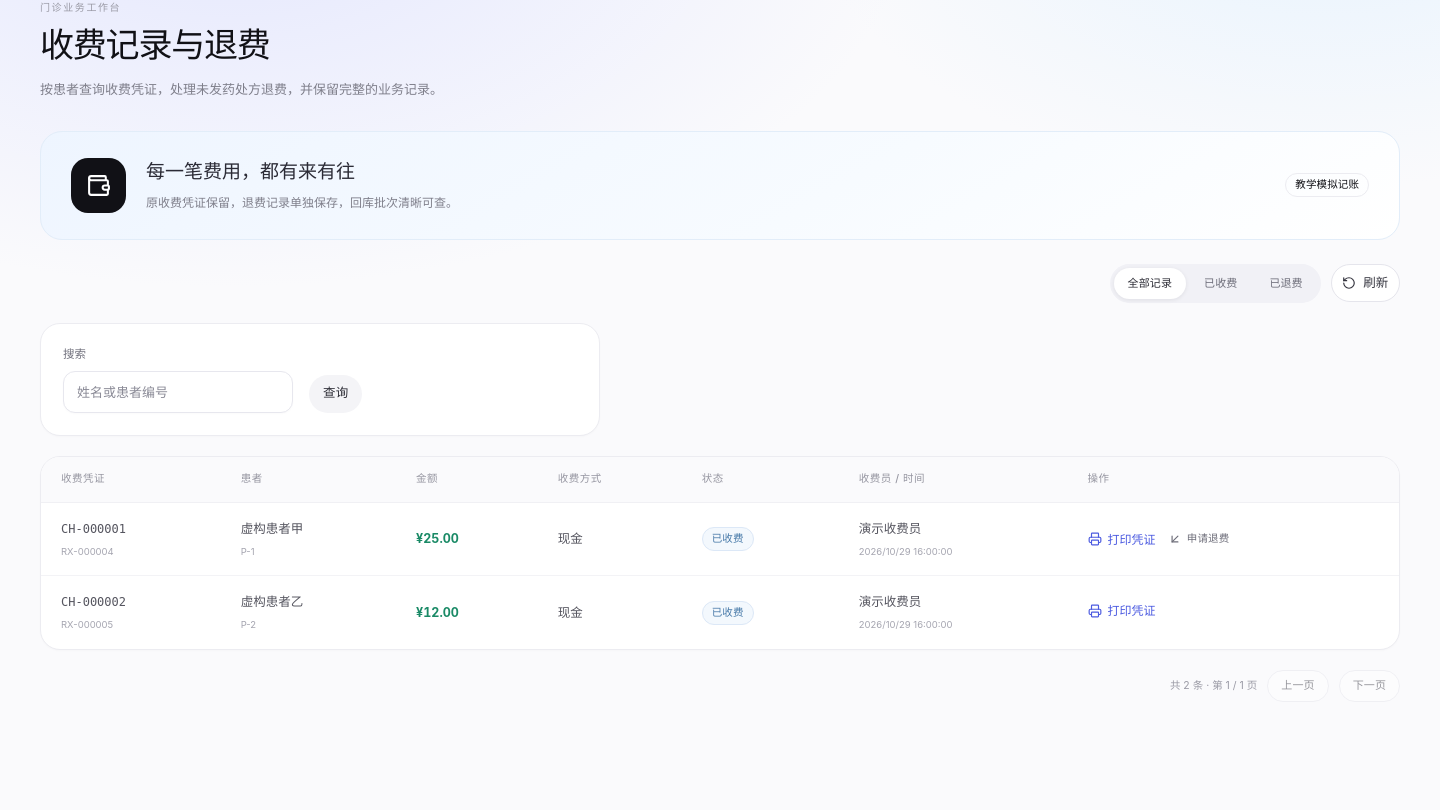
Test: visible outpatient enhancements › offers refunds only before dispensing and updates the visible record after refund
This screenshot has width=1440, height=810.
Click the button "申请退费" at (1198, 539), box [1156,524,1241,555]
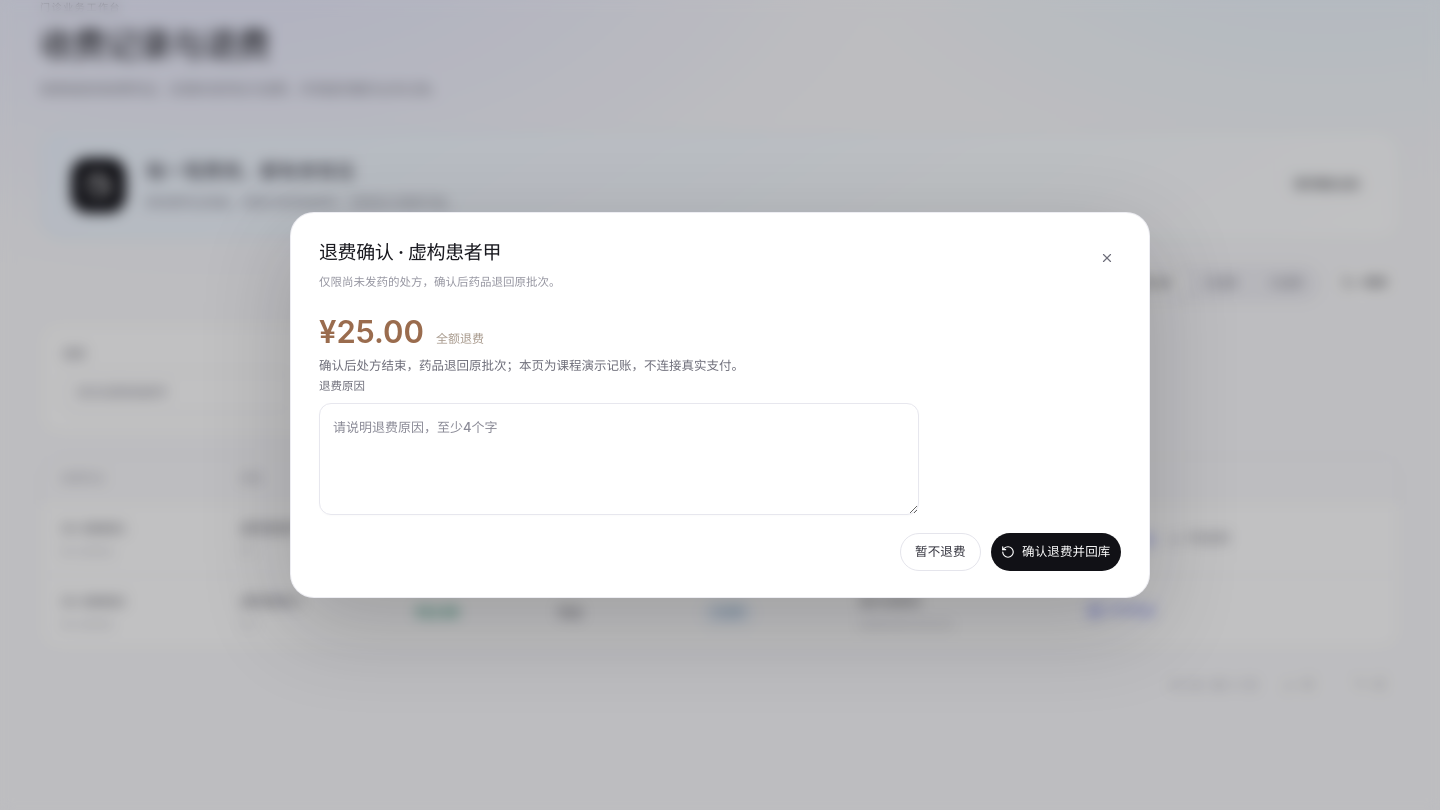
Check: the number of buttons "申请退费" is 1, box [1156,524,1241,555]
Type "患者取消本次教学处方" into the text box labelled "退费原因" at (619, 459), box [319,403,919,515]
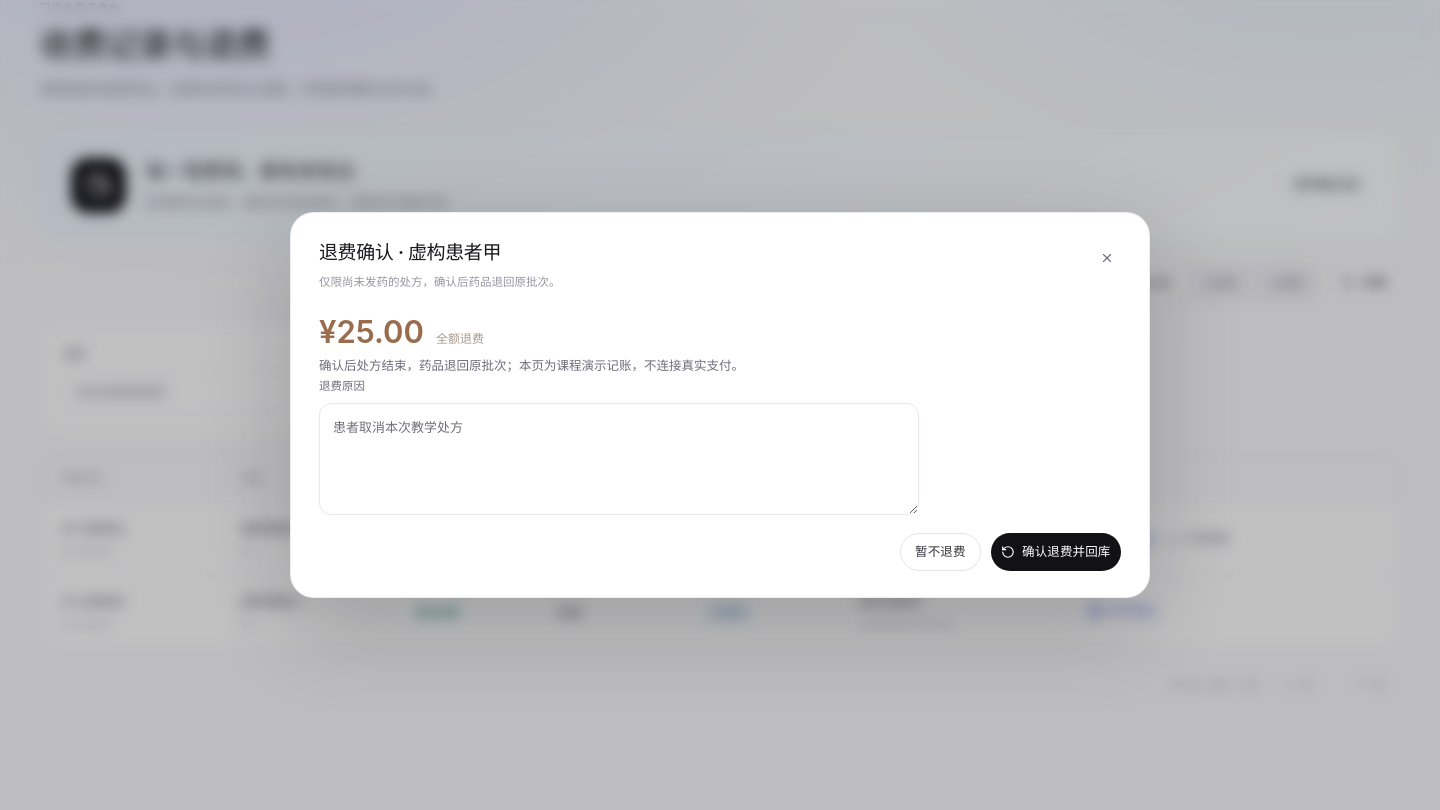
Click the button "确认退费并回库" at (1056, 552), box [991,533,1121,571]
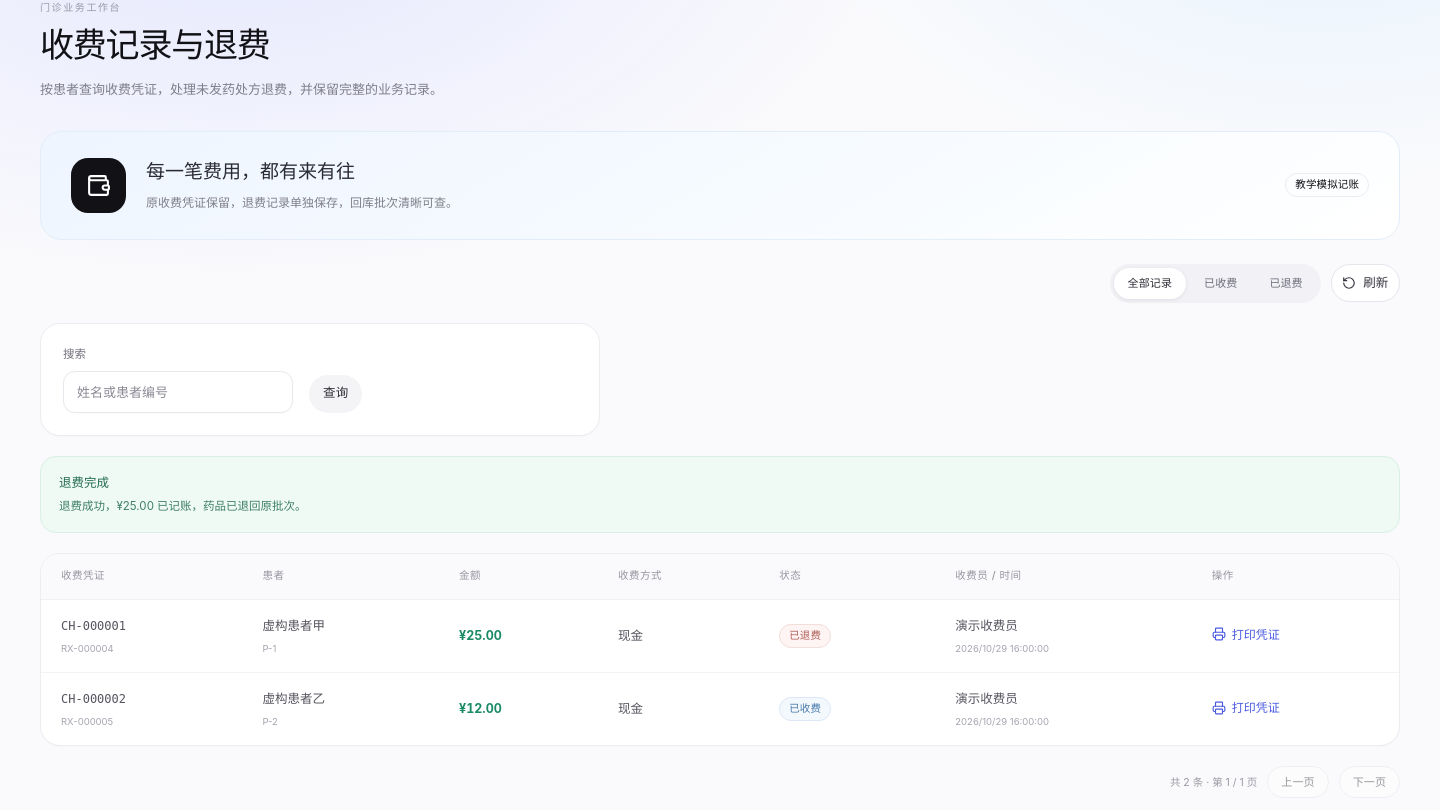
Check: the number of links "打印凭证" is 2, box [1212,625,1280,644]; [1212,698,1280,717]
Check: the text "退费完成" is shown, box [59,475,109,490]
Check: the button "申请退费" is gone
